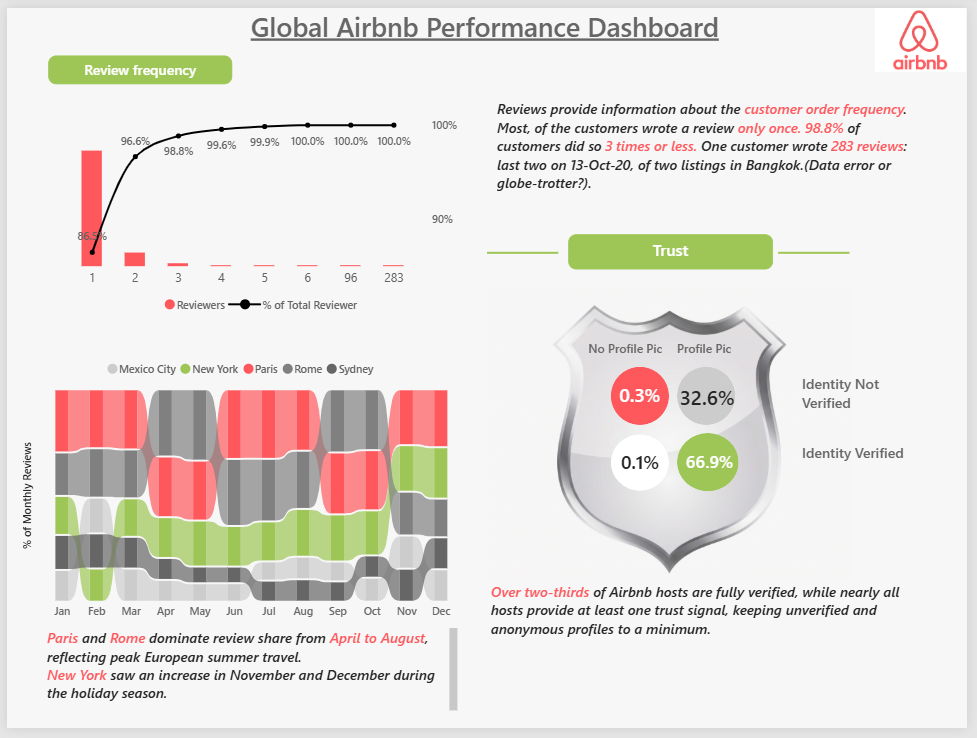

This screenshot's page, from the dashboard's own definition file:
{"tool":"powerbi","page":{"name":"Reviews","canvas":[960,720],"ordinal":2},"visuals":[{"type":"textbox","box":[114.4,0,728,90.8],"z":0},{"type":"image","box":[865.7,0,94.3,64.3],"z":1000},{"type":"textbox","box":[41.4,47.1,184.3,28.6],"z":2000},{"type":"textbox","box":[561.7,226.7,205,35],"z":3000},{"type":"shape","box":[771.7,101.7,71.4,287.1],"z":4000},{"type":"shape","box":[480,101.7,71.4,287.1],"z":5000},{"type":"lineStackedColumnComboChart","fields":{"Category":["Reviews.Reviews per Reviewer"],"Y":["Reviews.Reviewers"],"Y2":["Reviews.Cumulative Reviewers"]},"box":[40.6,91,429.7,234.2],"z":7000},{"type":"textbox","box":[490,91.2,422.5,116.2],"z":8000},{"type":"image","box":[480,280,363.3,291.7],"z":9000},{"type":"shape","box":[603.3,358.3,58.3,58.3],"z":10000},{"type":"shape","box":[670,425,61.7,58.3],"z":11000},{"type":"shape","box":[603.3,426.7,58.3,56.7],"z":12000},{"type":"shape","box":[670,358.3,58.3,58.3],"z":13000},{"type":"cardVisual","fields":{"Data":["Listings.Verified_Profile %"]},"box":[638.3,390,128.3,121.7],"z":14000},{"type":"textbox","box":[581.7,330,88.3,31.7],"z":15000},{"type":"textbox","box":[670,330,68.3,25],"z":16000},{"type":"textbox","box":[795,366.7,95,41.7],"z":17000},{"type":"textbox","box":[795,435,113.3,33.3],"z":18000},{"type":"cardVisual","fields":{"Data":["Listings.Verified_NoProfile %"]},"box":[585,421.7,96.7,65],"z":19000},{"type":"cardVisual","fields":{"Data":["Listings.NotVerified_NoProfile %"]},"box":[593.3,366.7,78.3,41.7],"z":20000},{"type":"cardVisual","fields":{"Data":["Listings.NotVerified_Profile %"]},"box":[654.3,360,93.3,56.7],"z":21000},{"type":"textbox","box":[484.3,574.3,433.3,91.7],"z":22000},{"type":"ribbonChart","fields":{"Category":["Reviews.Review Month"],"Series":["Listings.city"],"Y":["Reviews.% of Monthly Reviews"]},"box":[0,332.3,470.8,299.1],"z":23000},{"type":"textbox","box":[40,620,410,87.1],"z":24000}]}

Visuals, with their boxes in screenshot pixels (x1, y1, x2, y2), scaled from the page's 960x720 canvas onto the 977x738 screenshot:
textbox: box=[116, 0, 857, 93]
image: box=[881, 0, 976, 66]
textbox: box=[42, 48, 230, 78]
textbox: box=[572, 232, 780, 268]
shape: box=[785, 104, 858, 399]
shape: box=[489, 104, 561, 399]
lineStackedColumnComboChart - Reviews.Reviews per Reviewer x Reviews.Reviewers: box=[41, 93, 479, 333]
textbox: box=[499, 93, 929, 213]
image: box=[489, 287, 858, 586]
shape: box=[614, 367, 673, 427]
shape: box=[682, 436, 745, 495]
shape: box=[614, 437, 673, 495]
shape: box=[682, 367, 741, 427]
cardVisual - Listings.Verified_Profile %: box=[650, 400, 780, 524]
textbox: box=[592, 338, 682, 371]
textbox: box=[682, 338, 751, 364]
textbox: box=[809, 376, 906, 419]
textbox: box=[809, 446, 924, 480]
cardVisual - Listings.Verified_NoProfile %: box=[595, 432, 694, 499]
cardVisual - Listings.NotVerified_NoProfile %: box=[604, 376, 683, 419]
cardVisual - Listings.NotVerified_Profile %: box=[666, 369, 761, 427]
textbox: box=[493, 589, 934, 683]
ribbonChart - Reviews.Review Month x Listings.city: box=[0, 341, 479, 647]
textbox: box=[41, 636, 458, 725]
